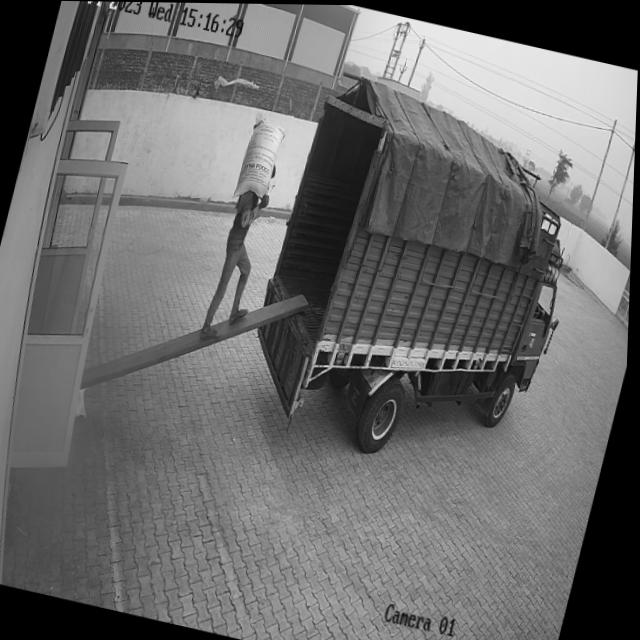sack: (232, 110, 290, 205)
